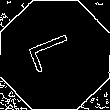L_E: (26, 31, 84, 79)
